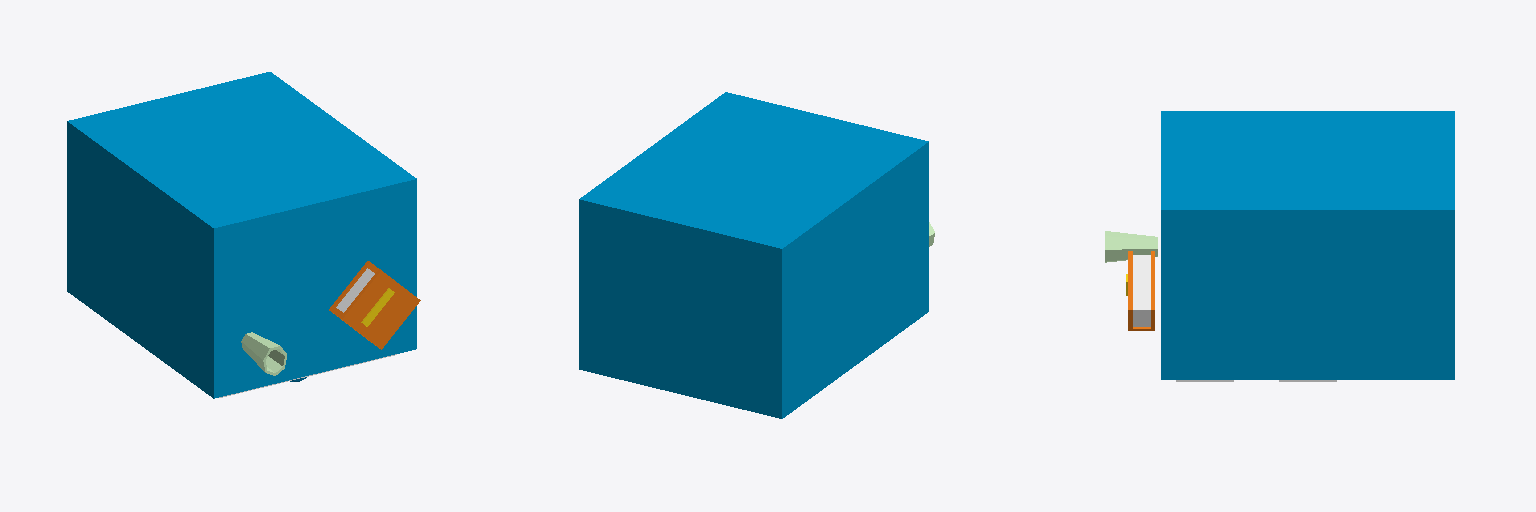
The model's file is tinker.obj.
3 views of the same model, side by side, from view 1: azimuth 30°, elevation 25°; view 2: azimuth 150°, elevation 25°; view 3: azimuth 270°, elevation 25° (orthographic).
Visible parts, largest first — view 1: obj_0; view 2: obj_0; view 3: obj_0.
Part boxes in pixels (bbox=[...]): obj_0: bbox=[67, 72, 420, 398]; obj_0: bbox=[579, 92, 934, 418]; obj_0: bbox=[1105, 111, 1454, 381].
Size of the model in its own units: 80 by 72 by 119.